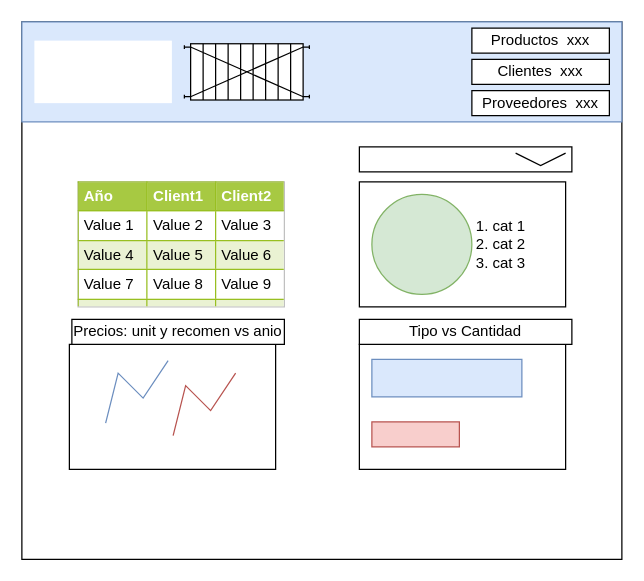
Some shapes in this 644 by 581 pixel diagram are drawn without their labels. Each missing label, with the centre of its shape:
NombreClientes: the point at 465,159
Version 1 Version 2: the point at 102,71
